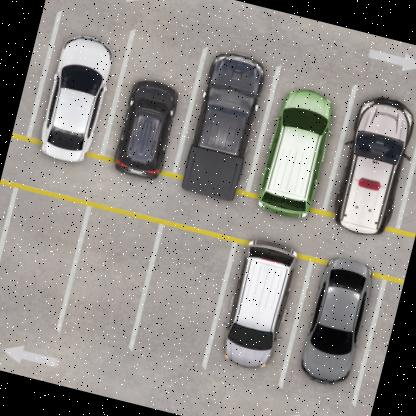Car: (173, 48, 271, 208), (216, 229, 308, 379), (327, 87, 416, 240), (31, 24, 119, 166), (252, 84, 336, 218), (298, 256, 376, 390), (110, 81, 180, 185)
Empty: (126, 224, 230, 381), (56, 210, 155, 357), (0, 190, 84, 346)
